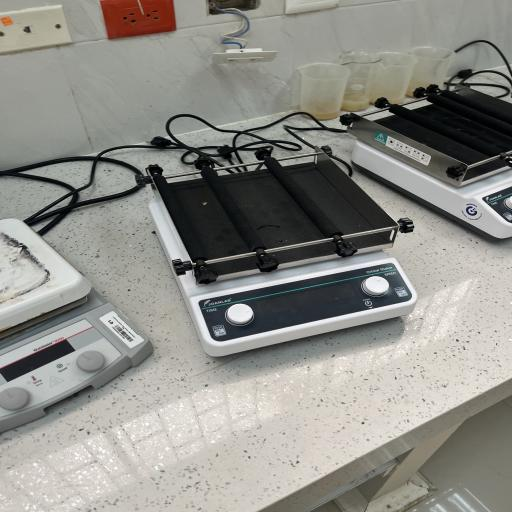Agitador_Orbital_DLAB: (126, 136, 434, 364)
